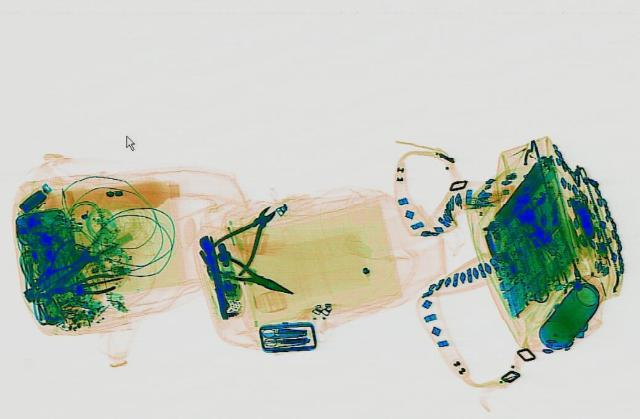Pliers: (194, 199, 296, 276), (204, 252, 300, 301), (19, 236, 93, 290), (42, 270, 120, 300)
Wrench: (30, 243, 104, 307)
